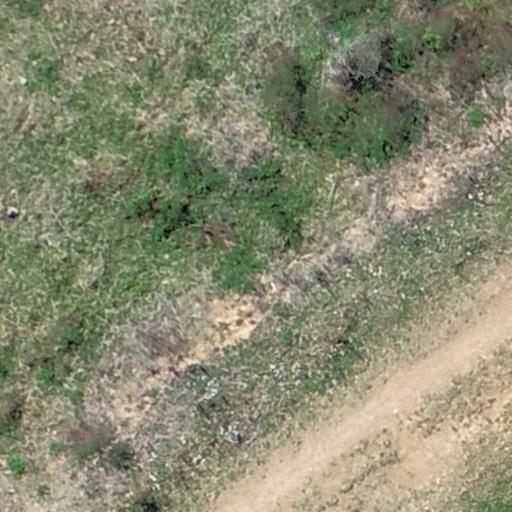stone: (6, 205, 20, 218)
